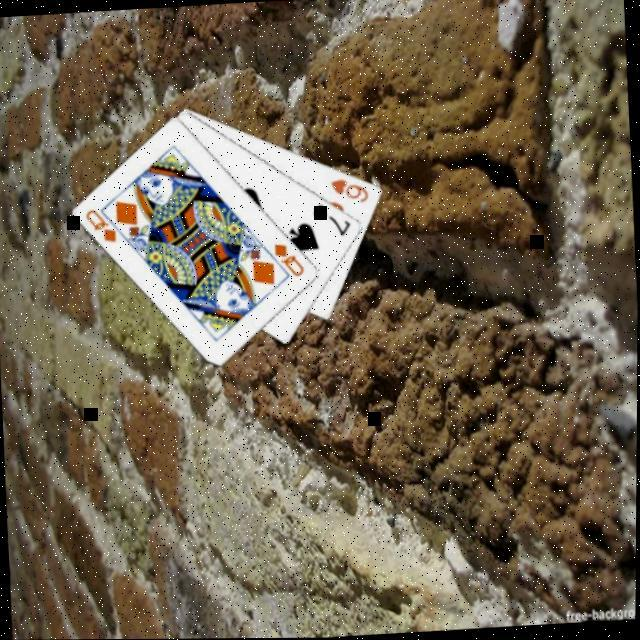6H: (326, 173, 371, 206)
7S: (308, 198, 353, 238)
QD: (80, 203, 118, 246), (269, 238, 307, 280)
